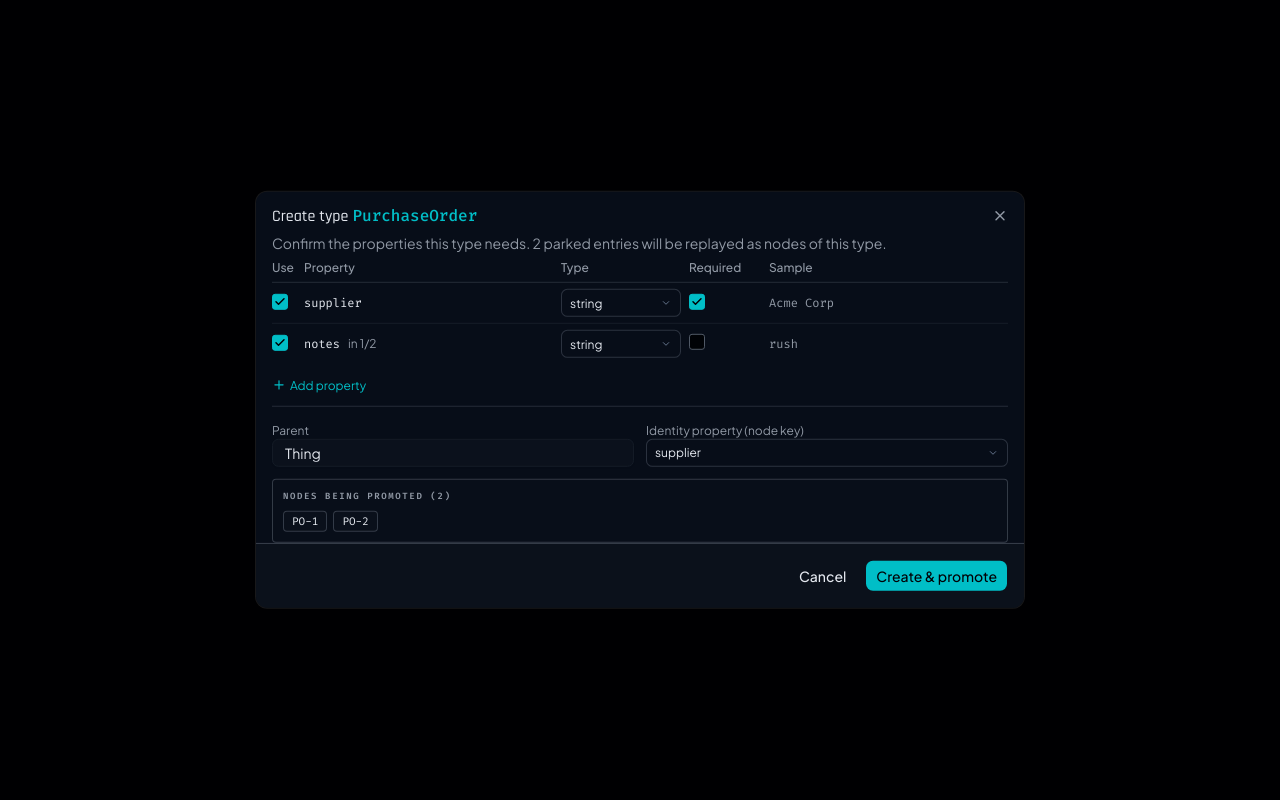
Test: SchemaPromotionDialog › warns that excluded properties are dropped from the replay
Expected: the checkbox named "Include supplier" is shown, [272, 294, 288, 310]
Click the checkbox named "Include notes" at (280, 343), box [272, 335, 288, 351]
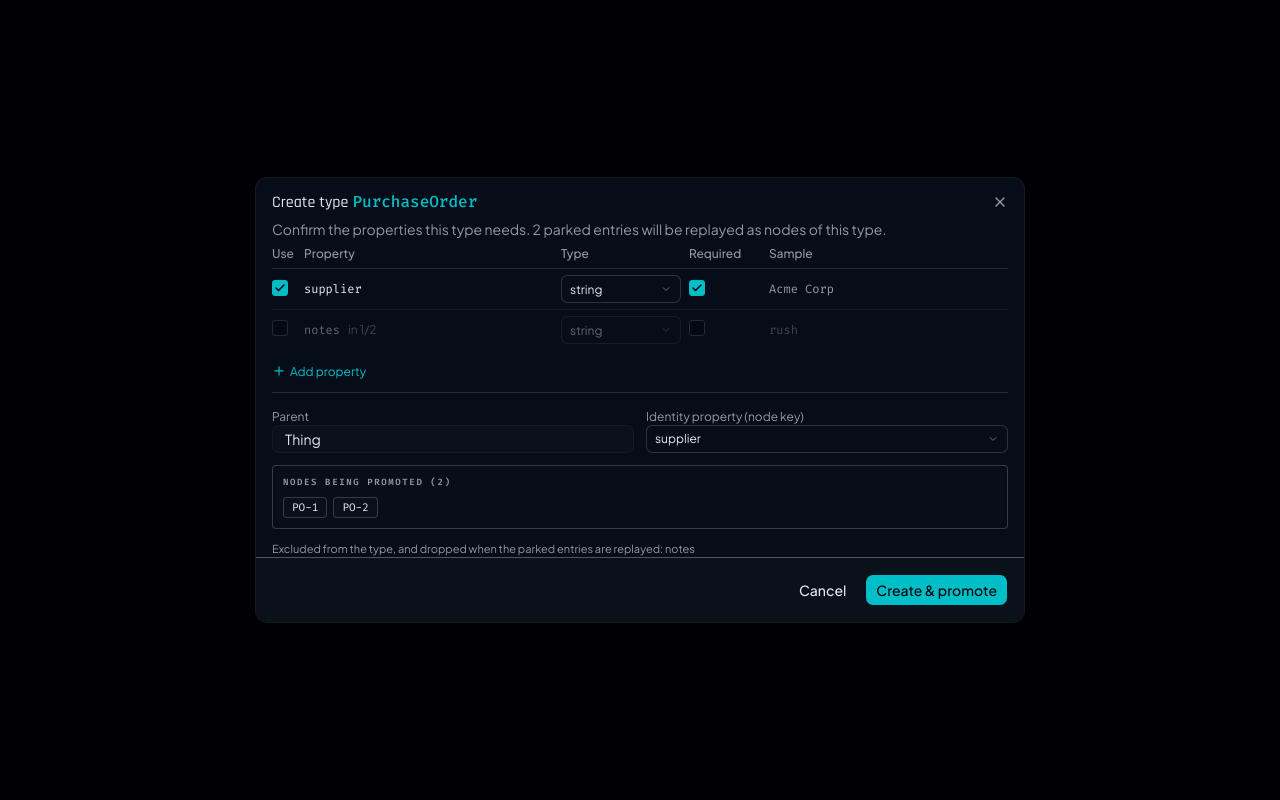
Now the text "dropped when the parked entries are replayed" is shown, box [272, 542, 665, 555]
